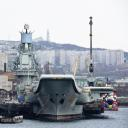Portanaves: (11, 22, 115, 123)
